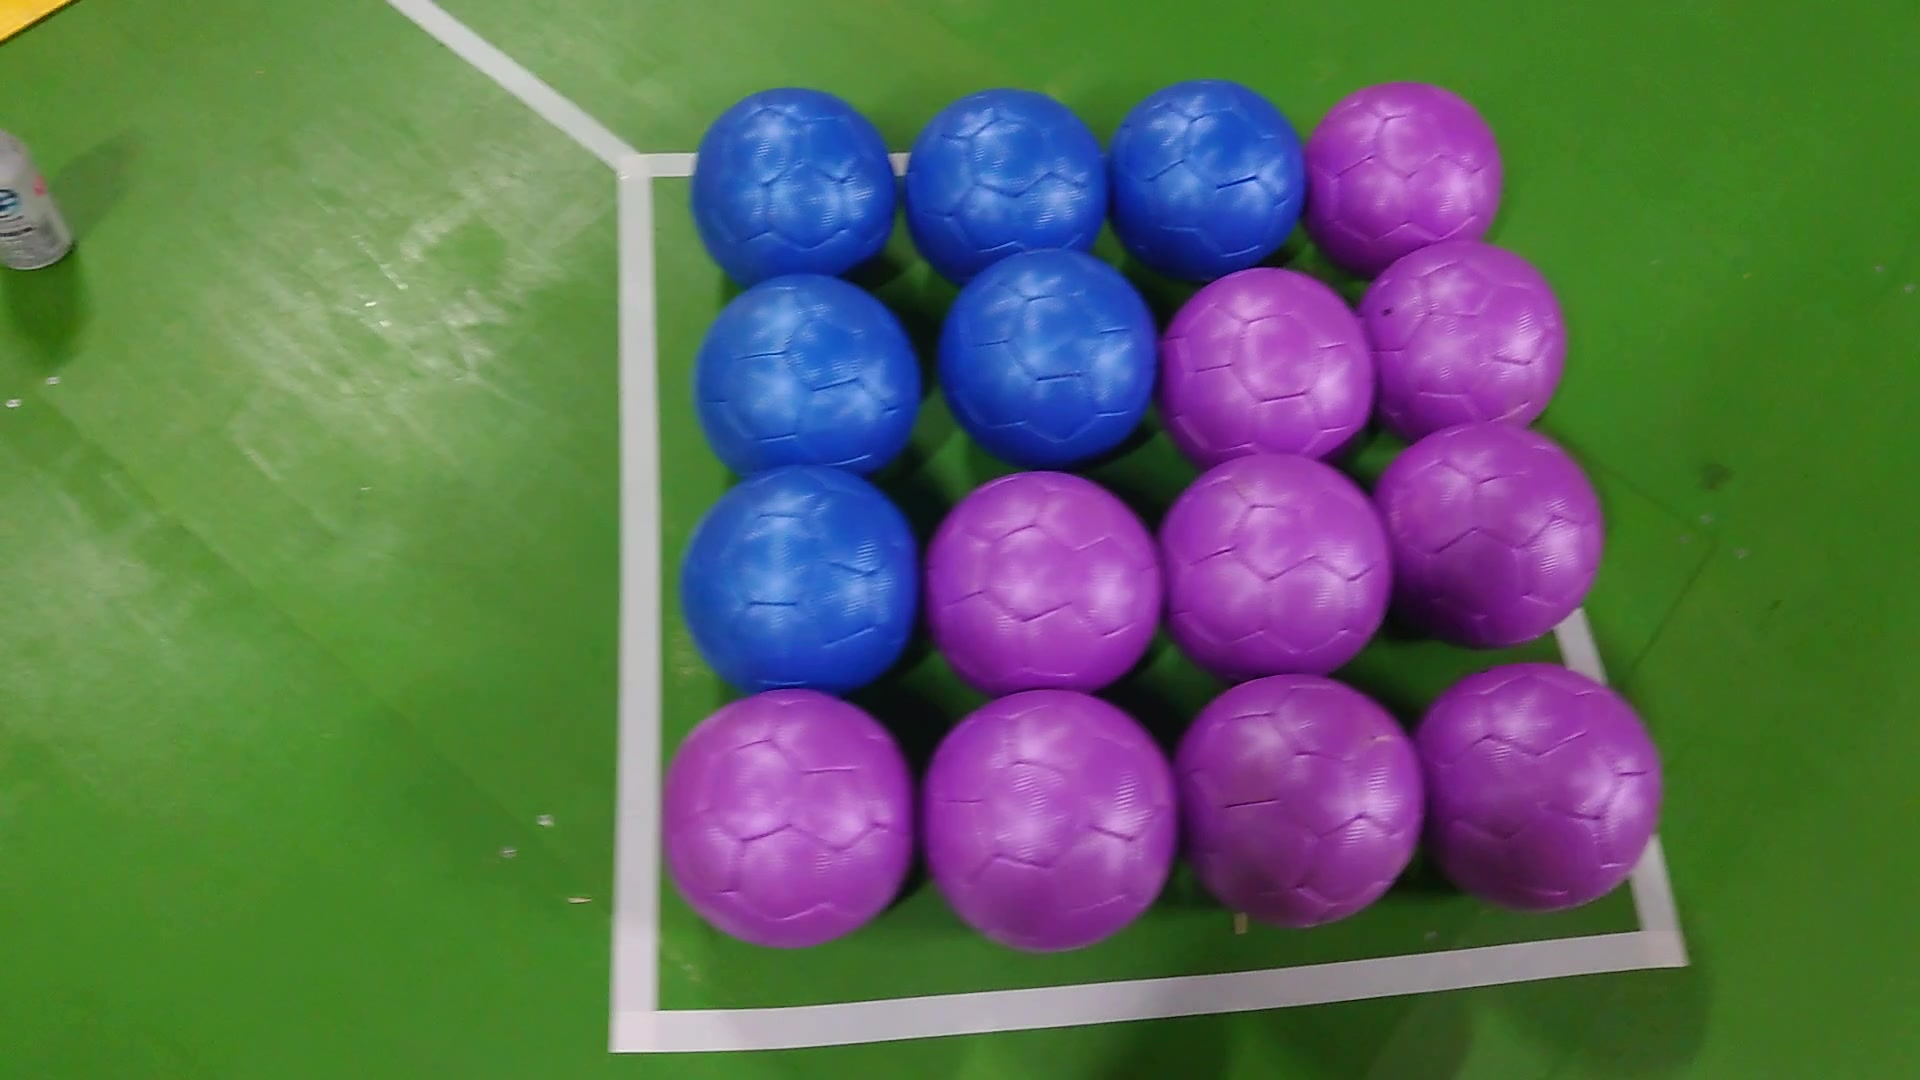blue: (683, 467, 927, 695), (692, 274, 924, 483), (938, 245, 1163, 458), (686, 82, 901, 284), (898, 84, 1104, 277), (1106, 75, 1309, 265)
purple: (920, 692, 1188, 951), (1404, 659, 1668, 918), (1168, 673, 1424, 924), (659, 692, 914, 944), (1371, 418, 1617, 646), (920, 464, 1156, 695), (1156, 458, 1391, 683), (1159, 261, 1381, 464), (1352, 239, 1571, 431), (1300, 78, 1506, 265)
